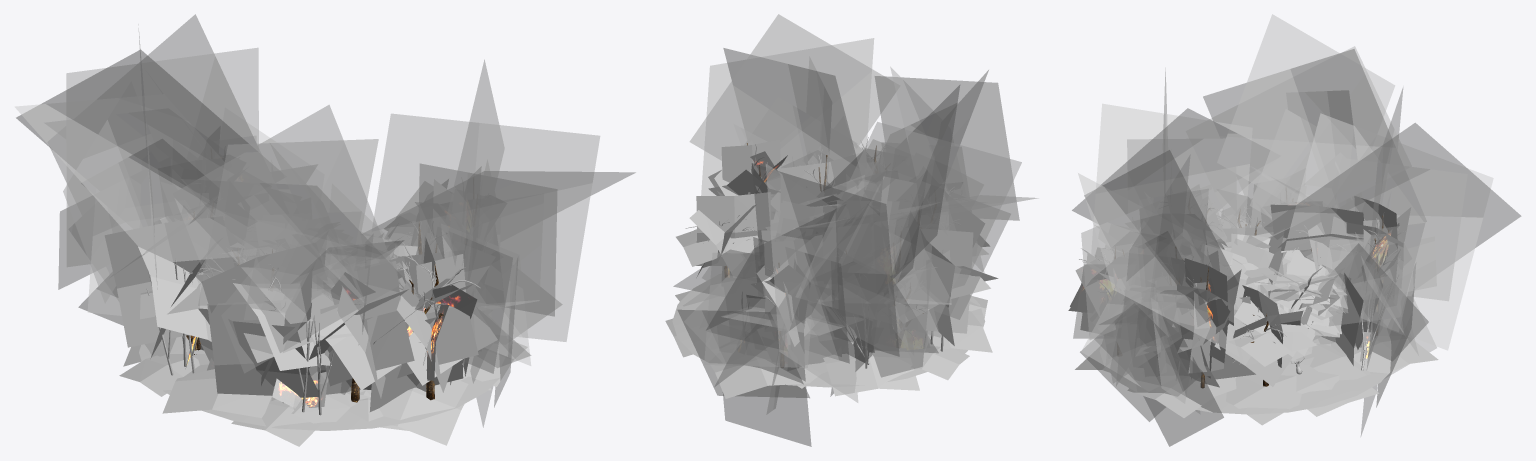
The picture shows the model from 3 angles, left to right: view 1: azimuth 30°, elevation 25°; view 2: azimuth 150°, elevation 25°; view 3: azimuth 270°, elevation 25°; orthographic projection. The views are drawn at different scales.
Visible parts, largest first — view 1: Smoke.002, Smoke.001, Smoke, Smoke.003, LeafsBurnt.028, LeafsBurnt.025, LeafsBurnt.024, SmokeScreen, LeafsBurnt.026, LeafsBurnt.023, LeafsBurnt.022, Circle (+10 smaller); view 2: Smoke.003, Smoke, Smoke.002, Smoke.001, LeafsBurnt.001, LeafsBurnt.028, LeafsBurnt.031, LeafsBurnt.021, LeafsBurnt.030, Circle, LeafsBurnt.020, LeafsBurnt.029 (+9 smaller); view 3: Smoke.003, Smoke.002, Smoke, Smoke.001, LeafsBurnt.001, LeafsBurnt.030, LeafsBurnt.027, Circle, LeafsBurnt.018, LeafsBurnt.031, LeafsBurnt.020, LeafsBurnt.017 (+19 smaller).
Boxes of the visible parts, bbox=[...] form: Smoke.002: bbox=[363, 59, 635, 427]; Smoke.001: bbox=[173, 105, 430, 400]; Smoke: bbox=[15, 24, 257, 330]; Smoke.003: bbox=[50, 14, 315, 266]; LeafsBurnt.028: bbox=[104, 217, 233, 358]; LeafsBurnt.025: bbox=[308, 261, 414, 398]; LeafsBurnt.024: bbox=[373, 254, 497, 392]; SmokeScreen: bbox=[198, 287, 332, 402]; LeafsBurnt.026: bbox=[201, 244, 352, 385]; LeafsBurnt.023: bbox=[359, 380, 468, 445]; LeafsBurnt.022: bbox=[162, 364, 271, 417]; Circle: bbox=[139, 344, 499, 430]; Smoke.003: bbox=[673, 163, 899, 446]; Smoke: bbox=[796, 85, 1038, 396]; Smoke.002: bbox=[689, 14, 895, 280]; Smoke.001: bbox=[823, 66, 1019, 272]; LeafsBurnt.001: bbox=[676, 192, 770, 276]; LeafsBurnt.028: bbox=[905, 231, 998, 345]; LeafsBurnt.031: bbox=[751, 235, 822, 367]; LeafsBurnt.021: bbox=[823, 349, 919, 396]; LeafsBurnt.030: bbox=[708, 139, 780, 195]; Circle: bbox=[672, 274, 985, 387]; LeafsBurnt.020: bbox=[709, 356, 810, 398]; LeafsBurnt.029: bbox=[771, 152, 866, 213]; Smoke.003: bbox=[1264, 87, 1521, 436]; Smoke.002: bbox=[1073, 150, 1238, 446]; Smoke: bbox=[1203, 14, 1426, 245]; Smoke.001: bbox=[1072, 68, 1269, 263]; LeafsBurnt.001: bbox=[1214, 285, 1317, 386]; LeafsBurnt.030: bbox=[1177, 258, 1241, 373]; LeafsBurnt.027: bbox=[1270, 204, 1376, 277]; Circle: bbox=[1100, 326, 1389, 414]; LeafsBurnt.018: bbox=[1226, 374, 1301, 425]; LeafsBurnt.031: bbox=[1346, 196, 1410, 281]; LeafsBurnt.020: bbox=[1330, 328, 1438, 373]; LeafsBurnt.017: bbox=[1127, 377, 1236, 417].
Size of the model in its own units: 3015 by 2536 by 3105.
